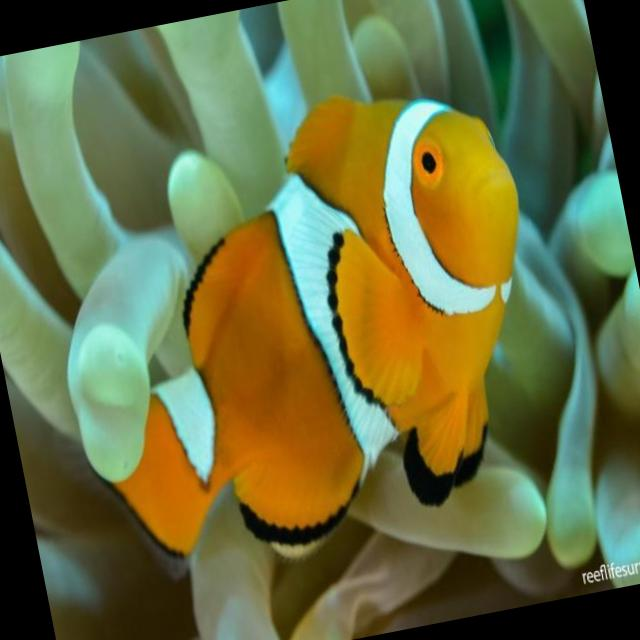ClownFish: (41, 74, 568, 576)
